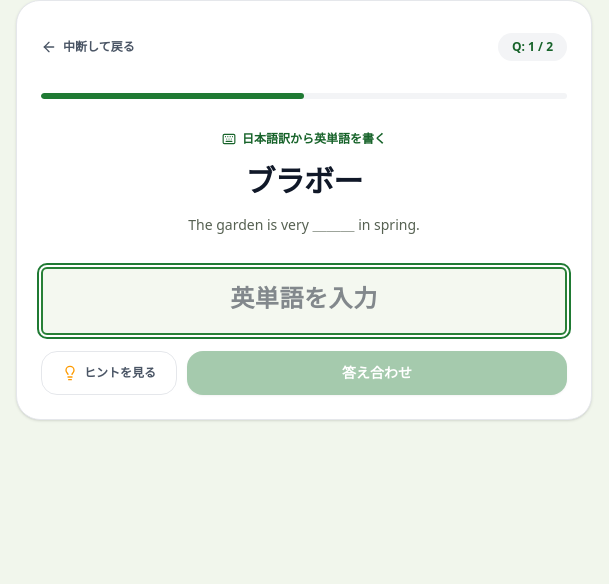
Scenario: 進行 › 次の問題へ進むと、前の入力を持ち越さない
Step 1. Type "zzz" into the field with id "spelling_input" → (304, 301), box [41,267,567,335]
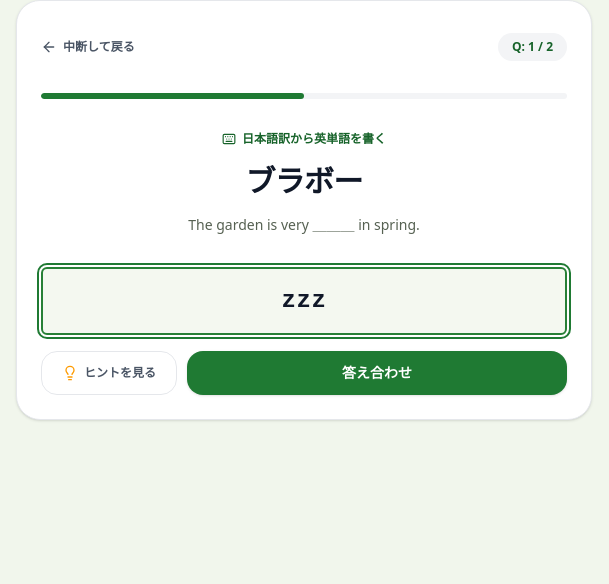
Step 2. Click the button with id "btn_spelling_submit" → (377, 373), box [187,351,567,395]
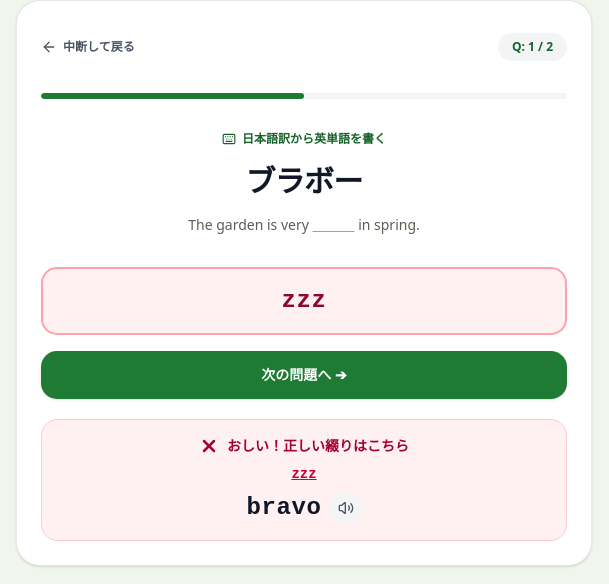
Step 3. Click the button with id "btn_spelling_next" → (304, 375), box [41,351,567,399]
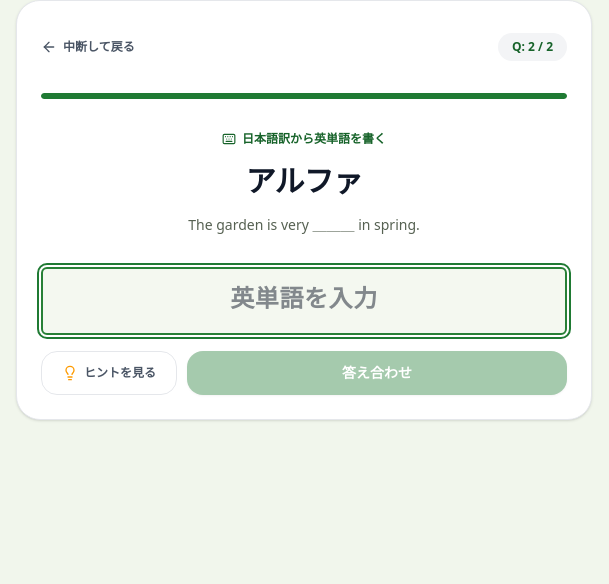
Expected: the text "Q: 2 / 2" is shown, [498,33,567,61]
Expected: the field with id "spelling_input" is empty, [41,267,567,335]
Expected: the field with id "spelling_input" is enabled, [41,267,567,335]
